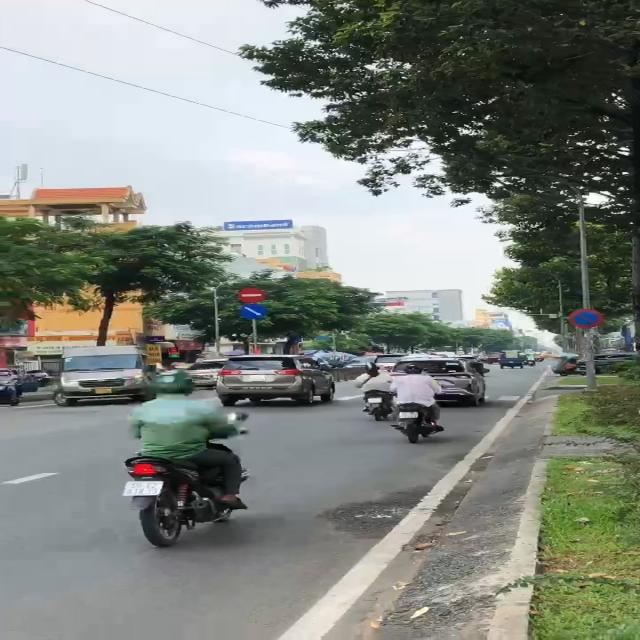Bien bao cam di nguoc chieu: (236, 286, 266, 304)
Bien bao huong phai di vong chuong ngai vat: (239, 302, 268, 321)
